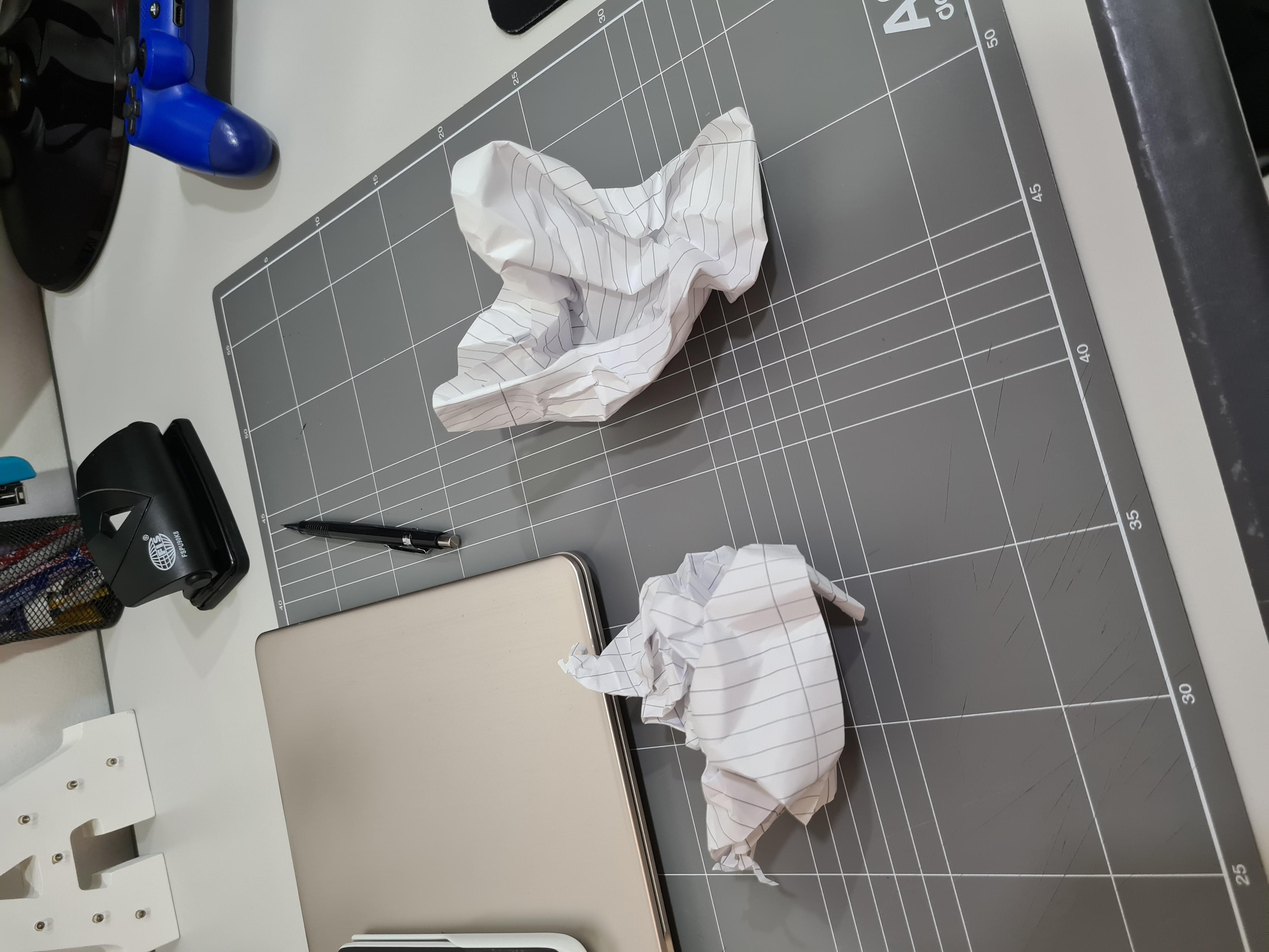paper: (697, 322, 1114, 584), (114, 435, 543, 648)
